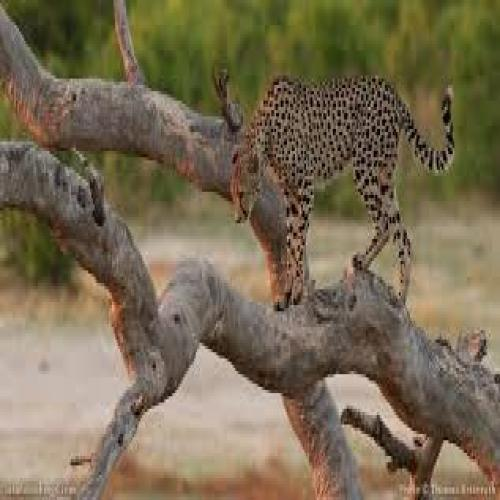cheetah-endangered: (230, 70, 424, 304)
